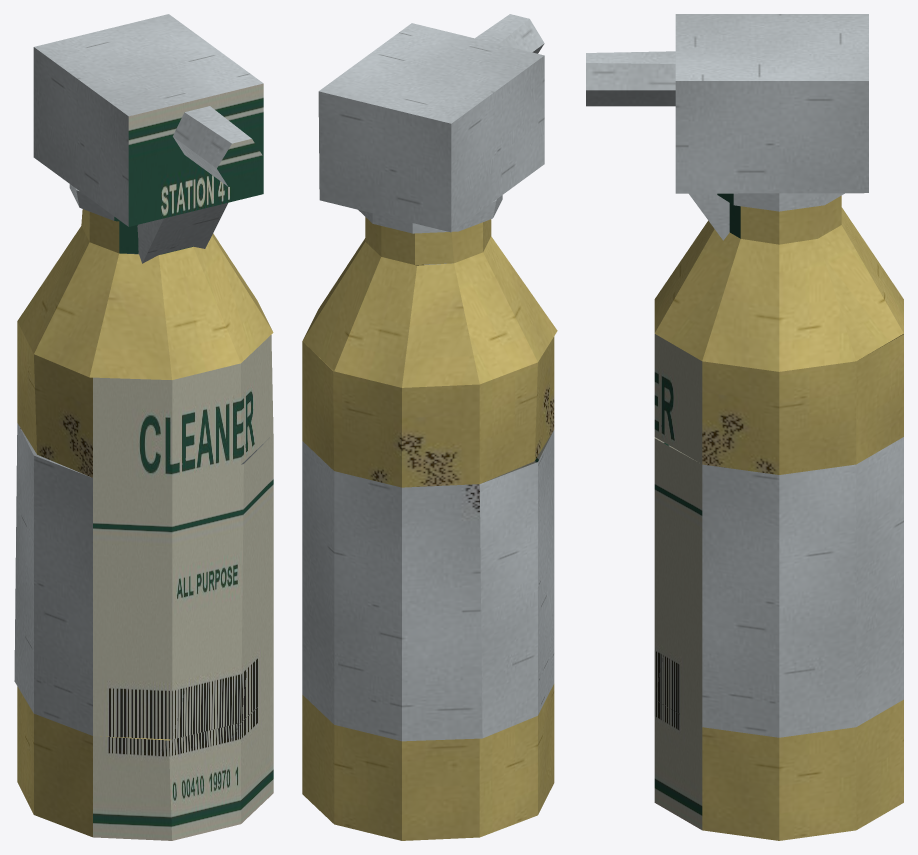
File: cleaner_v4.glb
3 renders of one model, left to right at view 1: azimuth 30°, elevation 25°; view 2: azimuth 150°, elevation 25°; view 3: azimuth 270°, elevation 25°, orthographic. The views are drawn at different scales.
Parts seen in each view (by area): view 1: Variant_cleaner_4; view 2: Variant_cleaner_4; view 3: Variant_cleaner_4.
Boxes of the visible parts, x1,y1,x2,y2 form: Variant_cleaner_4: (14, 14, 273, 840); Variant_cleaner_4: (302, 14, 557, 840); Variant_cleaner_4: (586, 14, 903, 840).
Size of the model in its own units: 0.076 by 0.236 by 0.0921.
3 materials, 3 textured.
